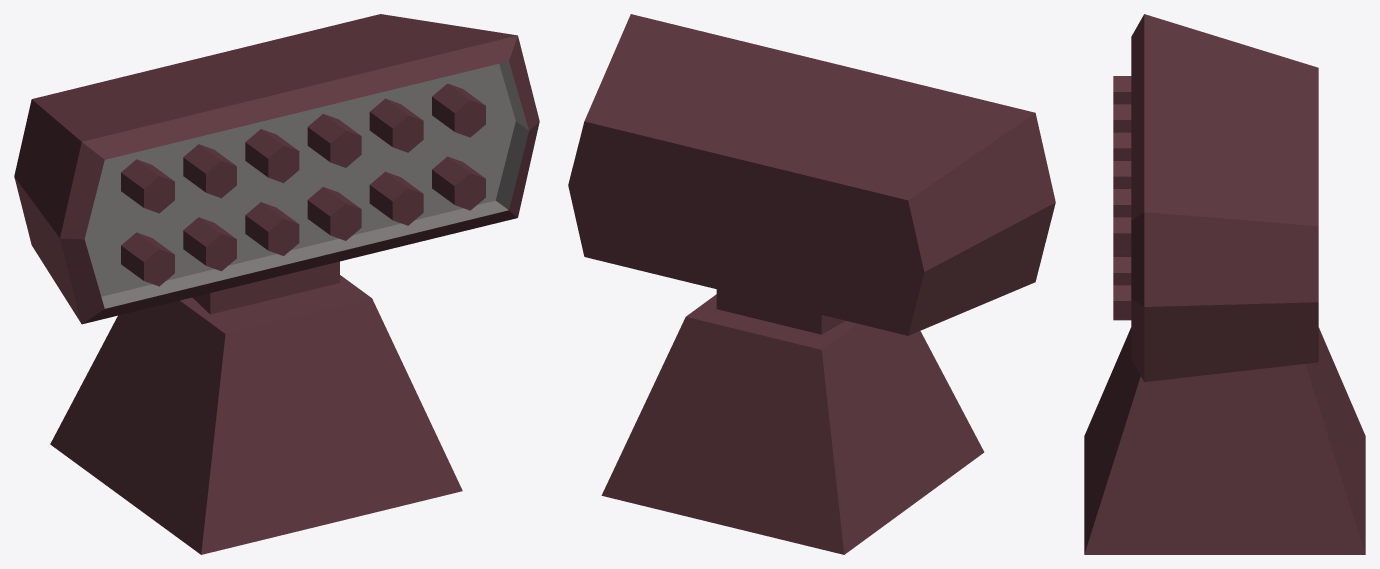
File: scifi-turret-head-missile-small.fbx
3 renders of one model, left to right at view 1: azimuth 30°, elevation 25°; view 2: azimuth 150°, elevation 25°; view 3: azimuth 270°, elevation 25°, orthographic. The views are drawn at different scales.
Parts seen in each view (by area): view 1: scifi-turret-head-missile-small; view 2: scifi-turret-head-missile-small; view 3: scifi-turret-head-missile-small.
Part boxes in pixels (left/top/right/bottom): scifi-turret-head-missile-small: left=14, top=14, right=539, bottom=554; scifi-turret-head-missile-small: left=568, top=14, right=1055, bottom=554; scifi-turret-head-missile-small: left=1084, top=14, right=1365, bottom=554.
Size of the model in its own units: 1.1 by 0.9 by 0.6.
